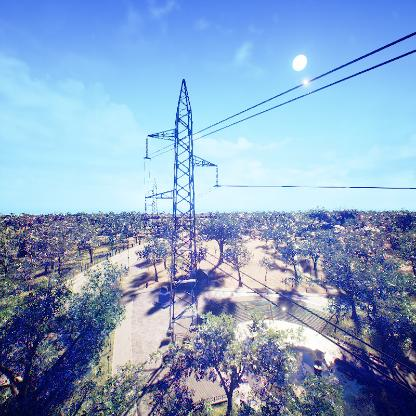tower: (141, 76, 223, 344)
